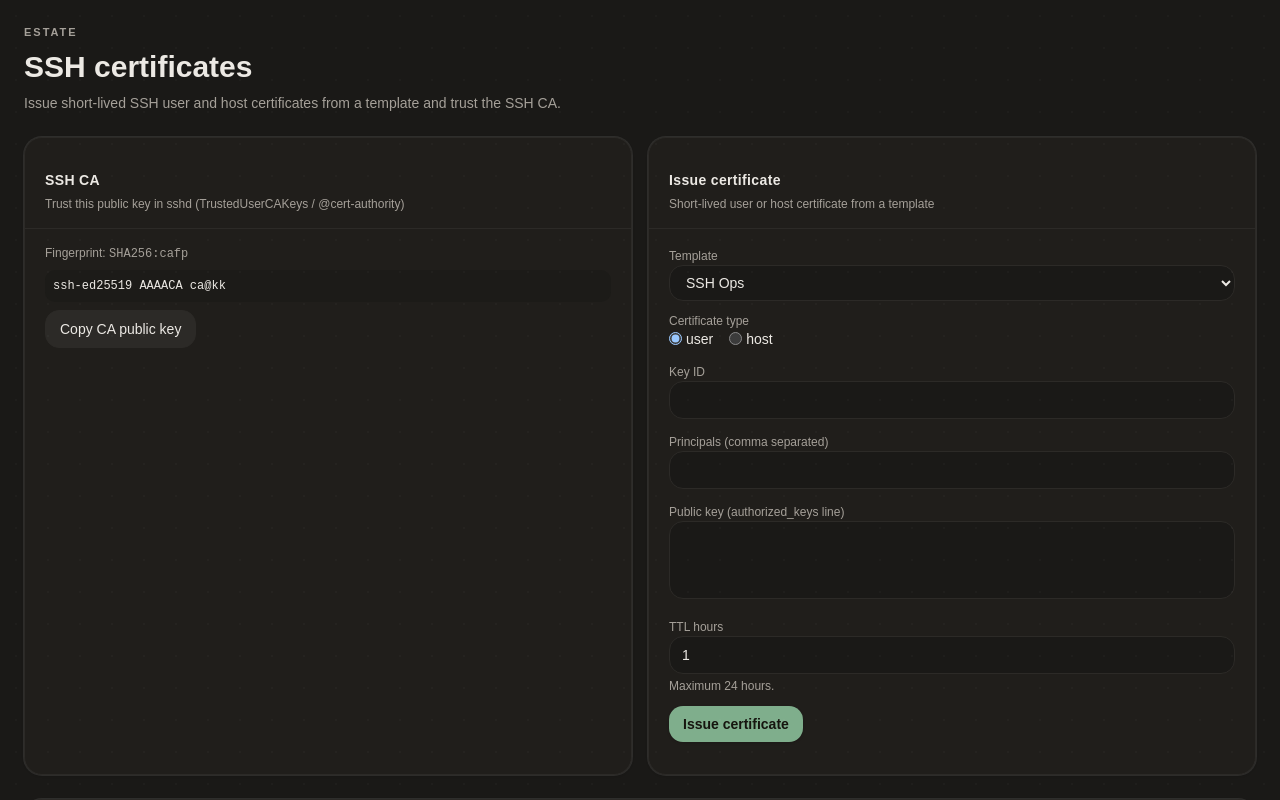
SSH certificates page › shows the CA key and copies it
The image size is (1280, 800).
Check: the text "ssh-ed25519 AAAACA ca@kk" is shown, box [45,270,611,302]
Click the button "Copy CA public key" at coordinates (121, 328), box [45,310,196,348]
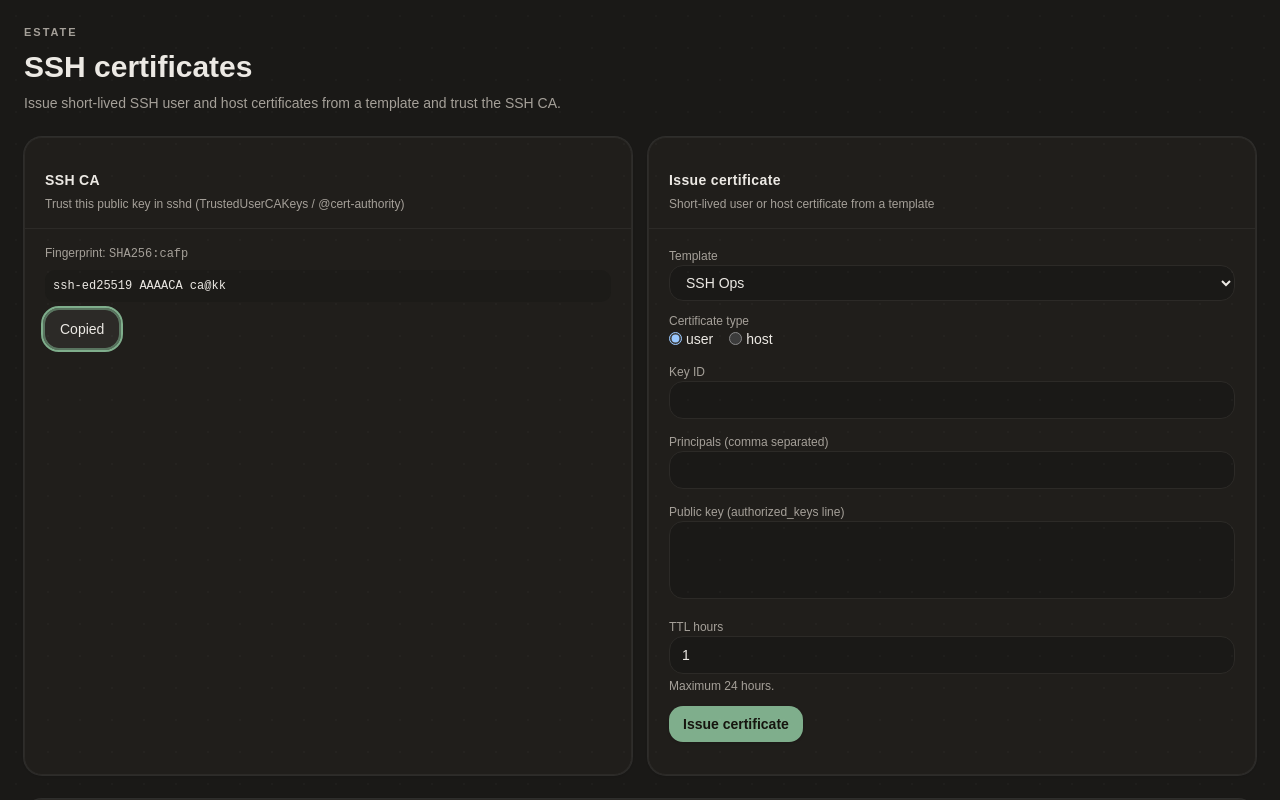
Check: the button "Copied" is shown, box [45,310,119,348]
